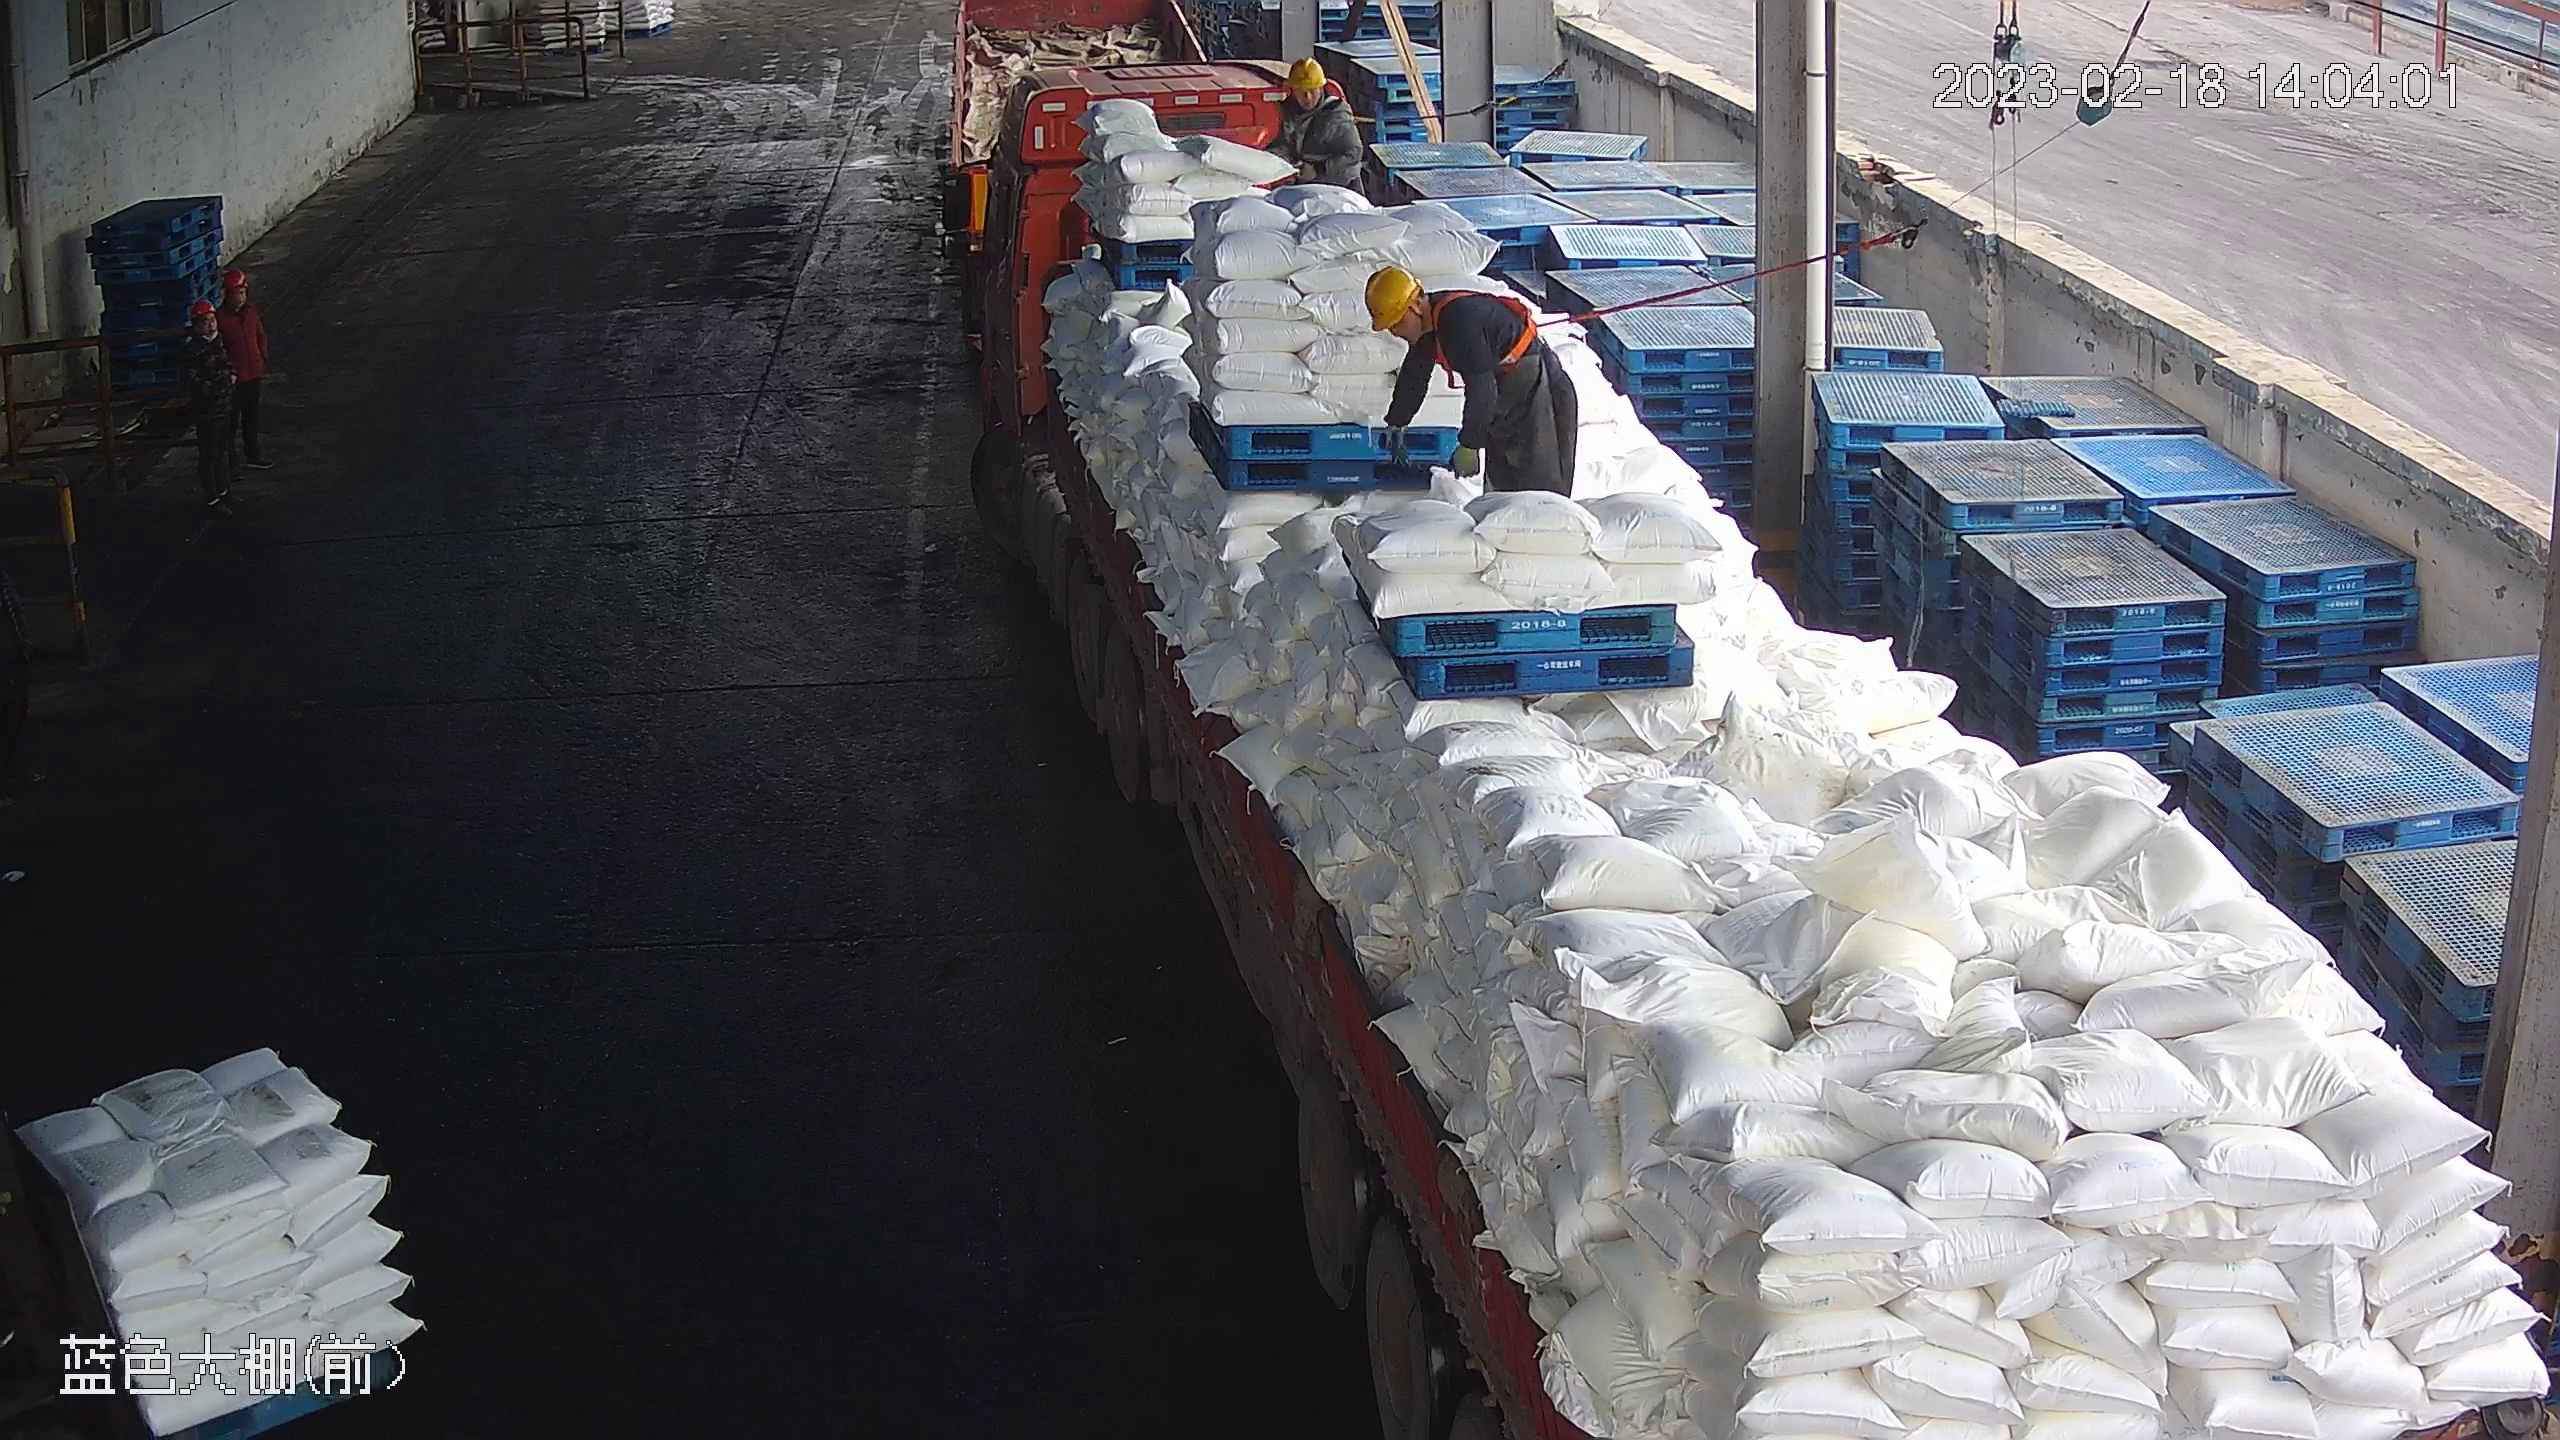belt: (1428, 276, 1550, 377), (1297, 94, 1369, 159)
head: (1360, 261, 1495, 362), (1278, 55, 1357, 130), (206, 263, 262, 337), (183, 296, 237, 367)
helmet: (1361, 262, 1417, 334), (1283, 54, 1325, 92), (220, 268, 249, 291), (188, 299, 217, 319)
people: (1364, 261, 1579, 505), (1269, 54, 1371, 199), (219, 263, 278, 474), (180, 298, 234, 509)
truck: (955, 35, 2552, 1440)
